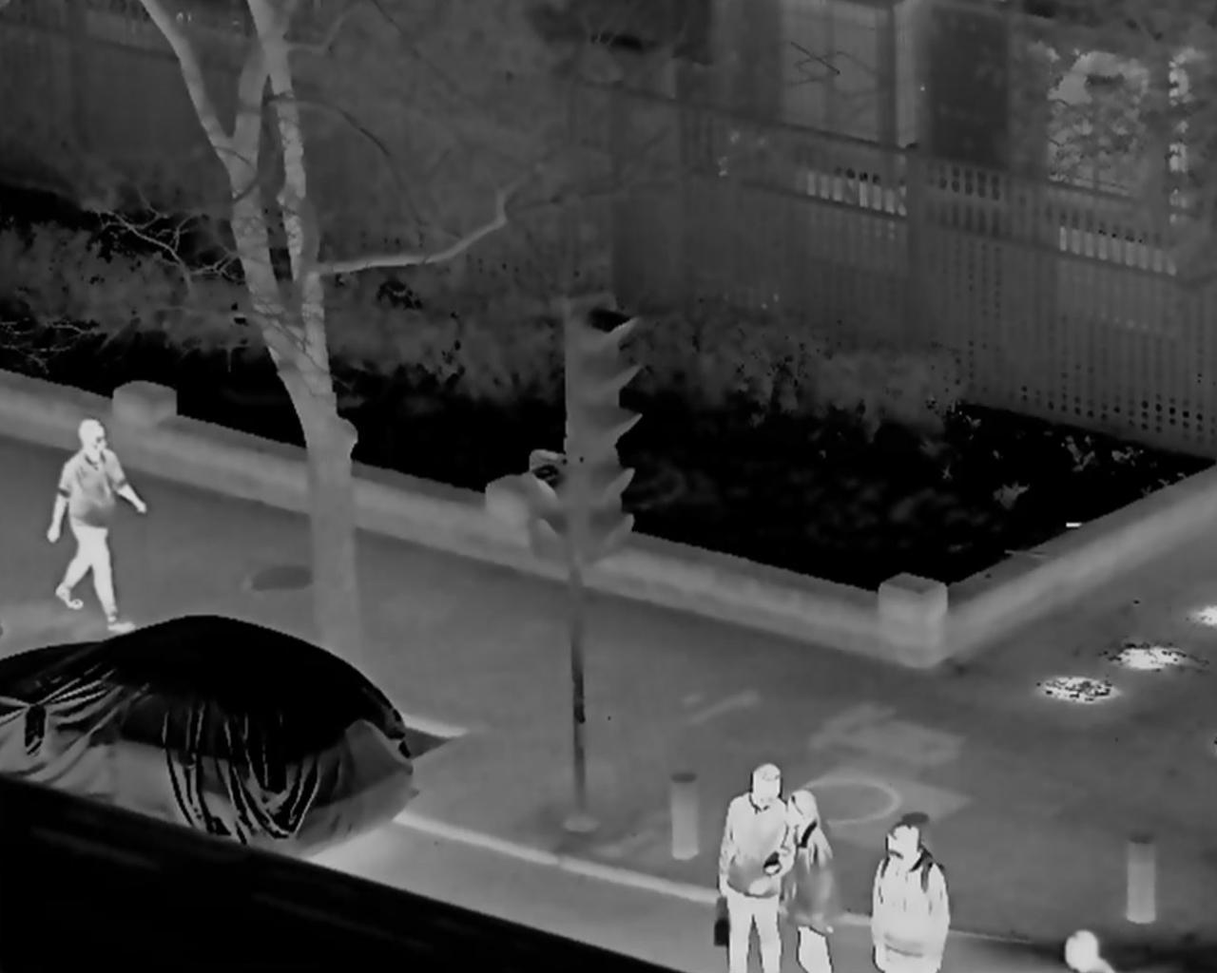person: (48, 417, 140, 629), (764, 791, 840, 973), (717, 764, 783, 973), (869, 824, 950, 973)
